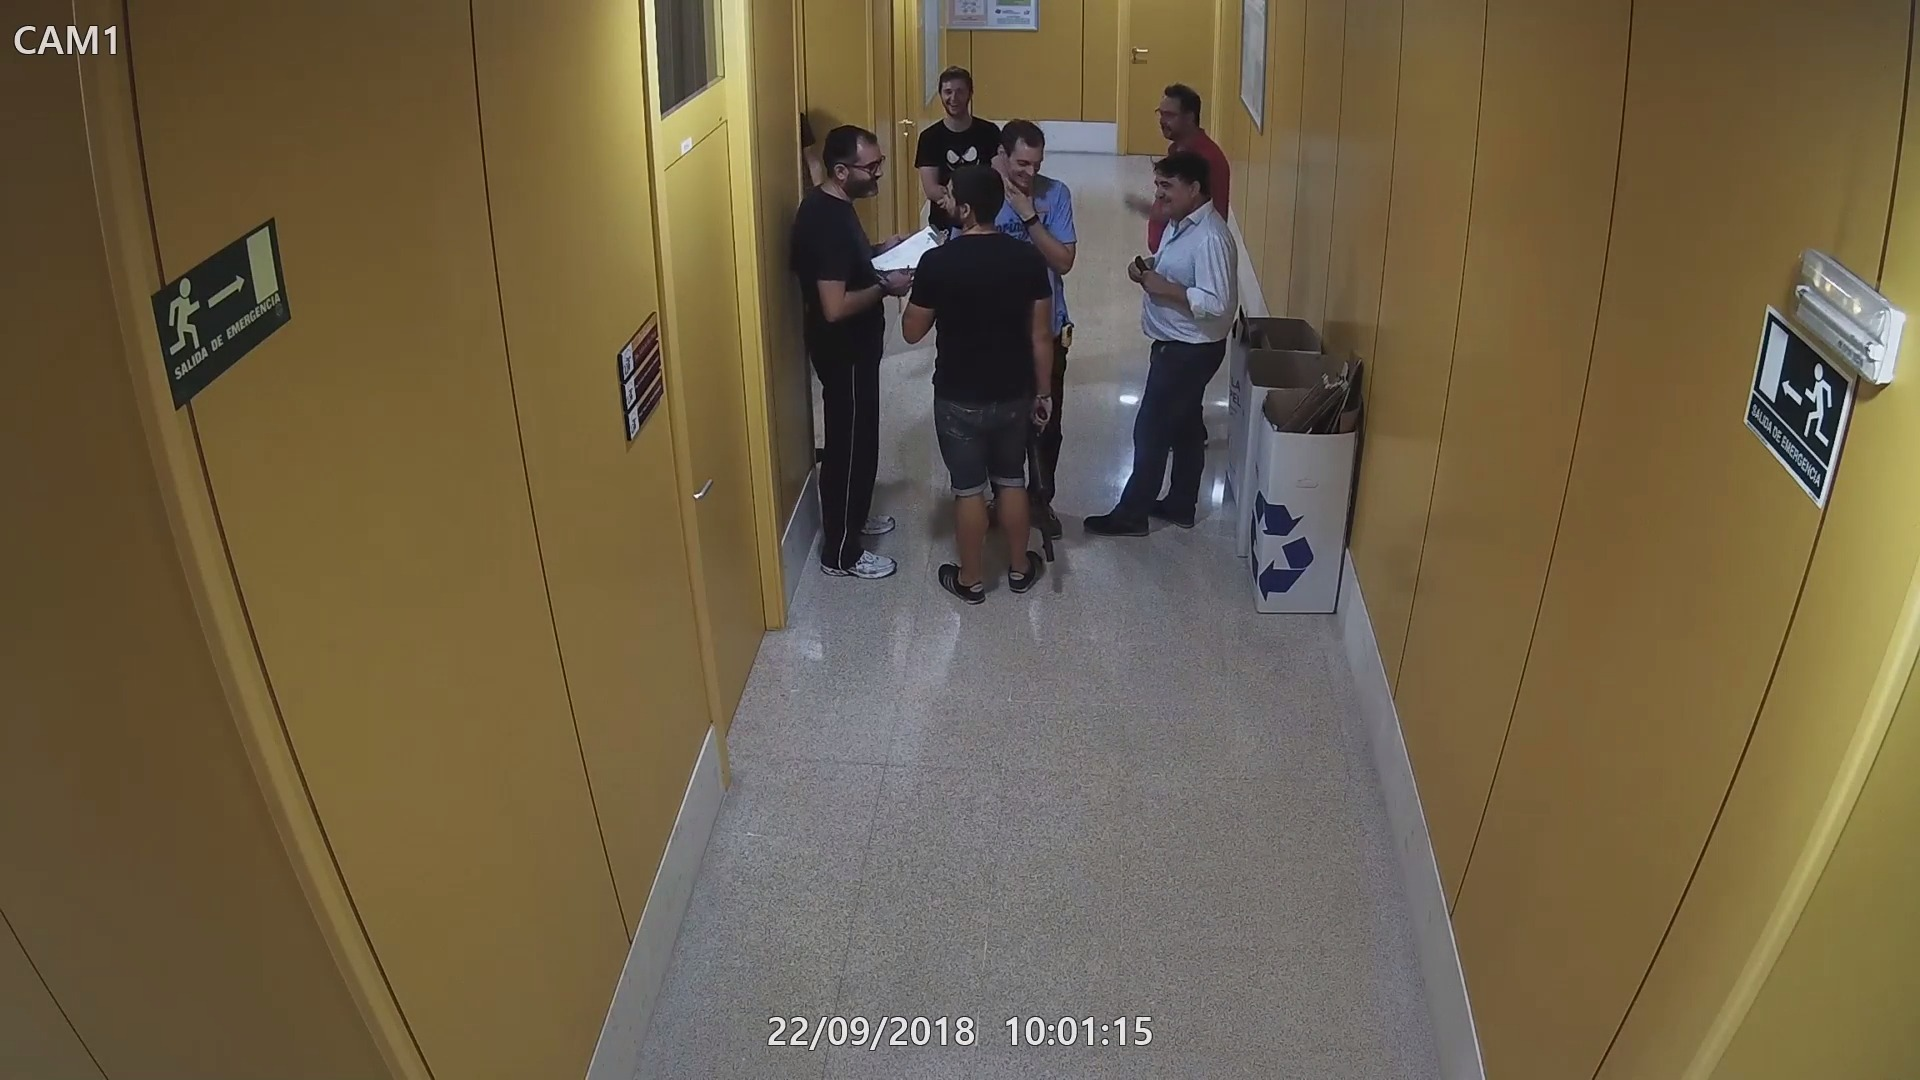Handgun: (1125, 252, 1160, 291)
Short_rifle: (1027, 404, 1059, 568)
